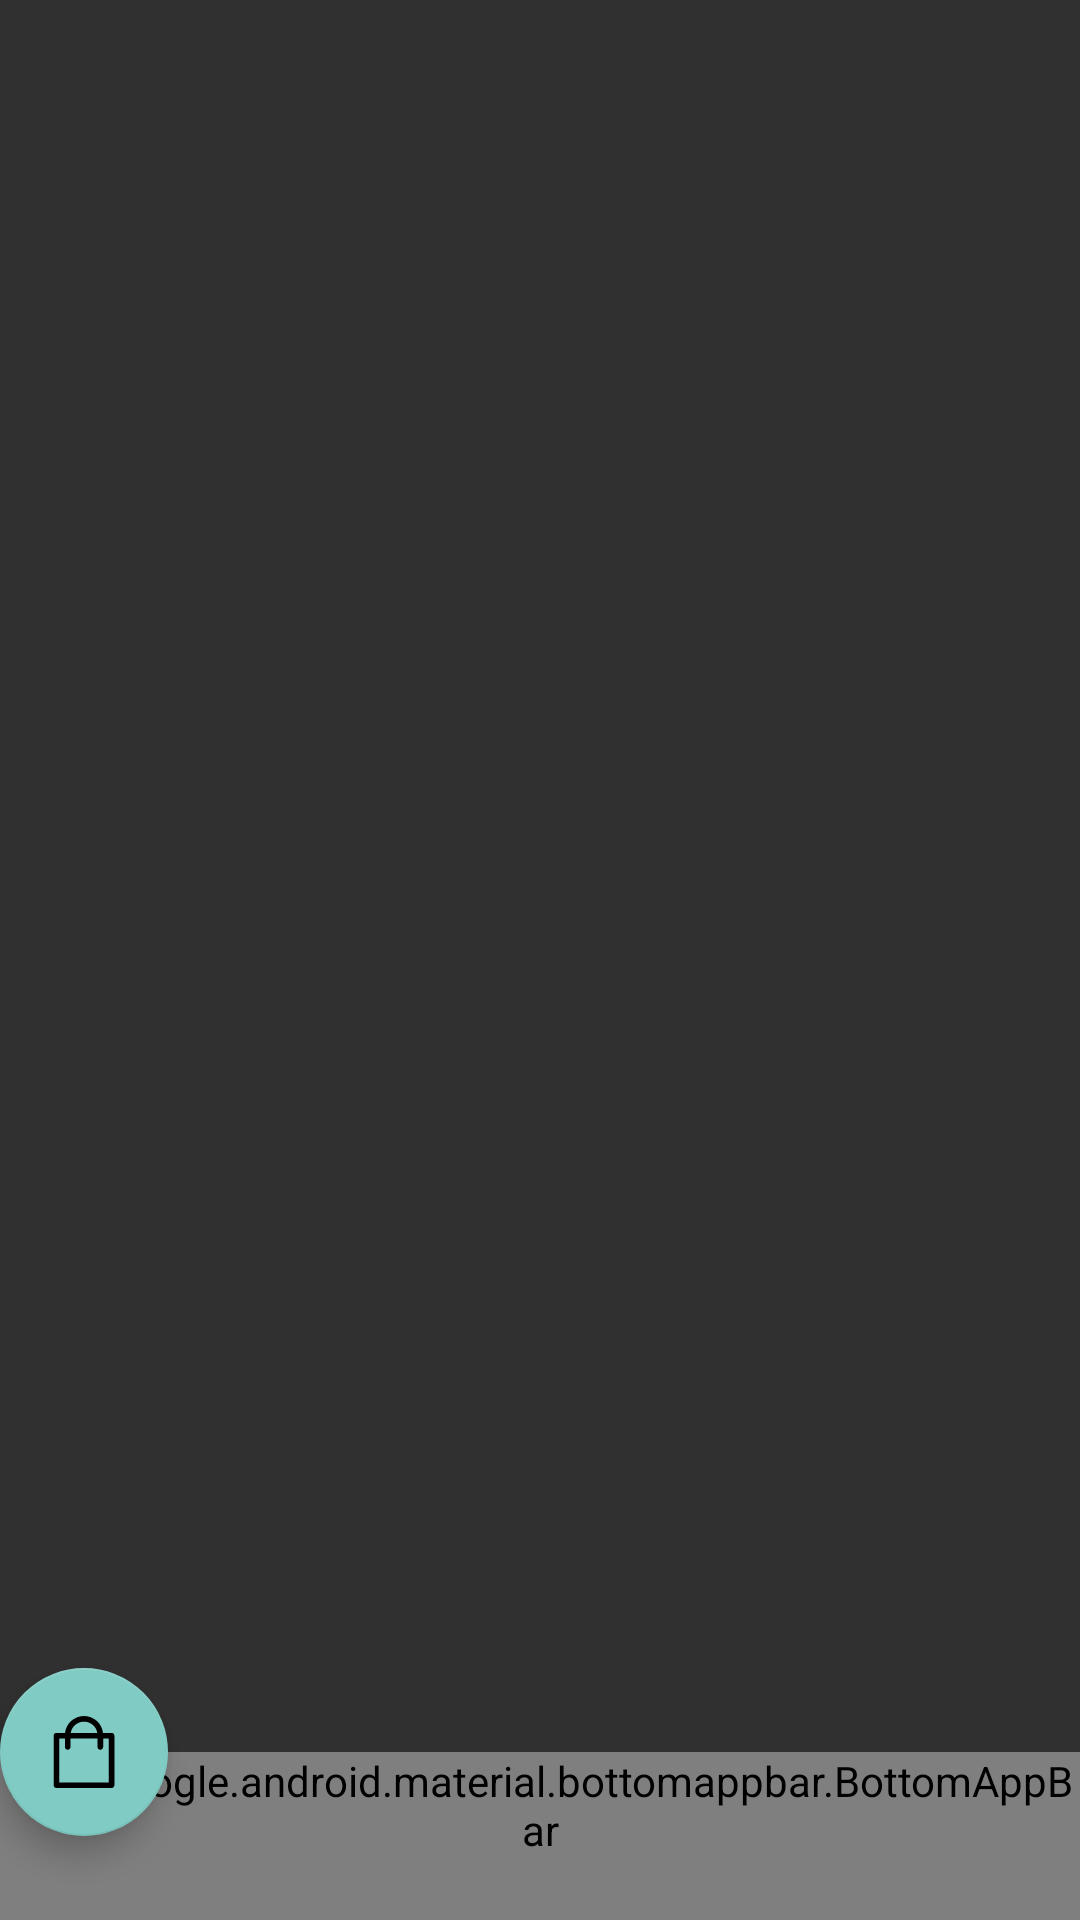

Where to tap for icons on this 1080 × 1920 app screen, as (x,y):
bag: (84,1752)
